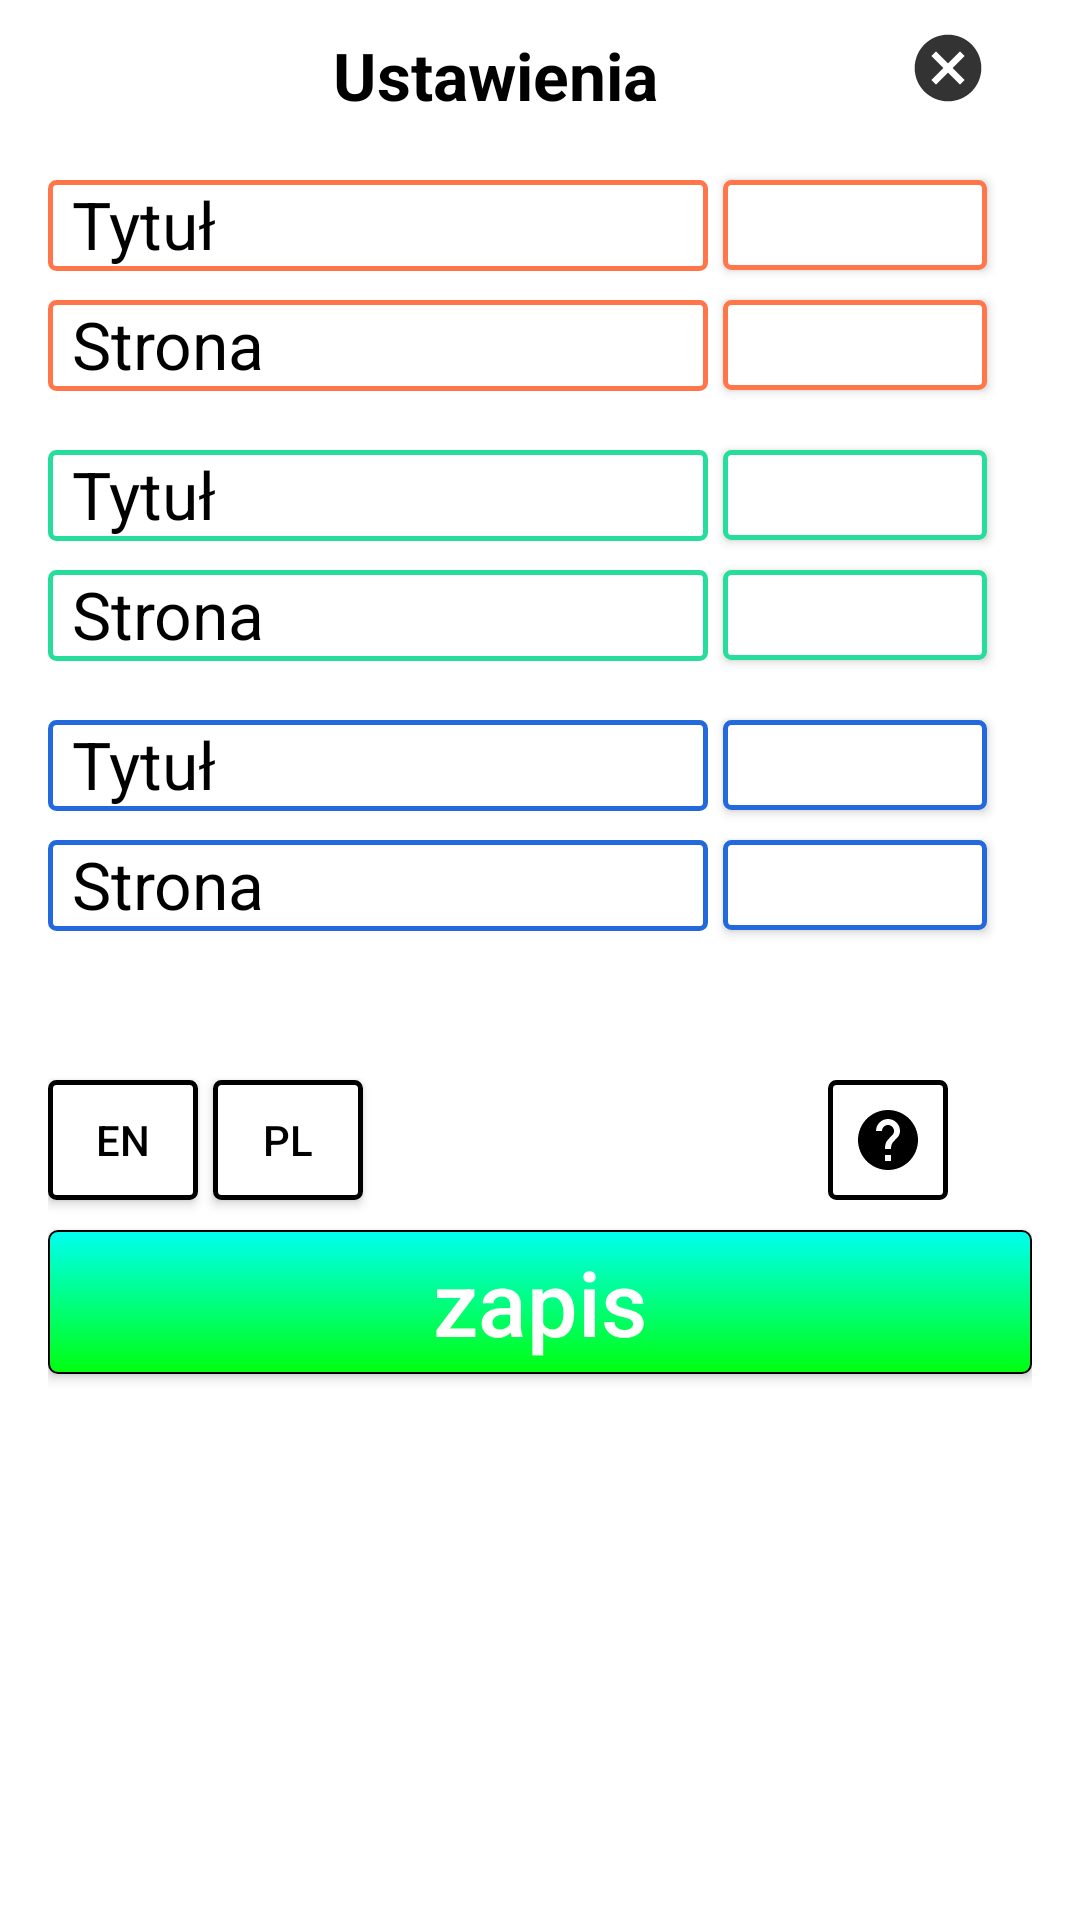

Named icons in this screenshot (1080 x 1920) and their bounding boxes, (x1, y1, x2, y2):
cancel: (914, 34, 982, 102)
help: (828, 1080, 948, 1200)
